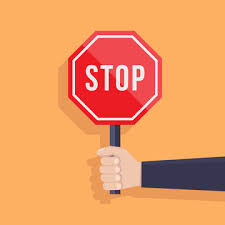stop sign: (66, 30, 163, 126)
